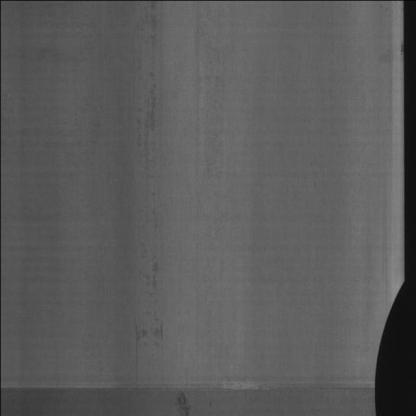crescent_gap: (368, 264, 409, 416)
welding_line: (0, 376, 378, 409)
